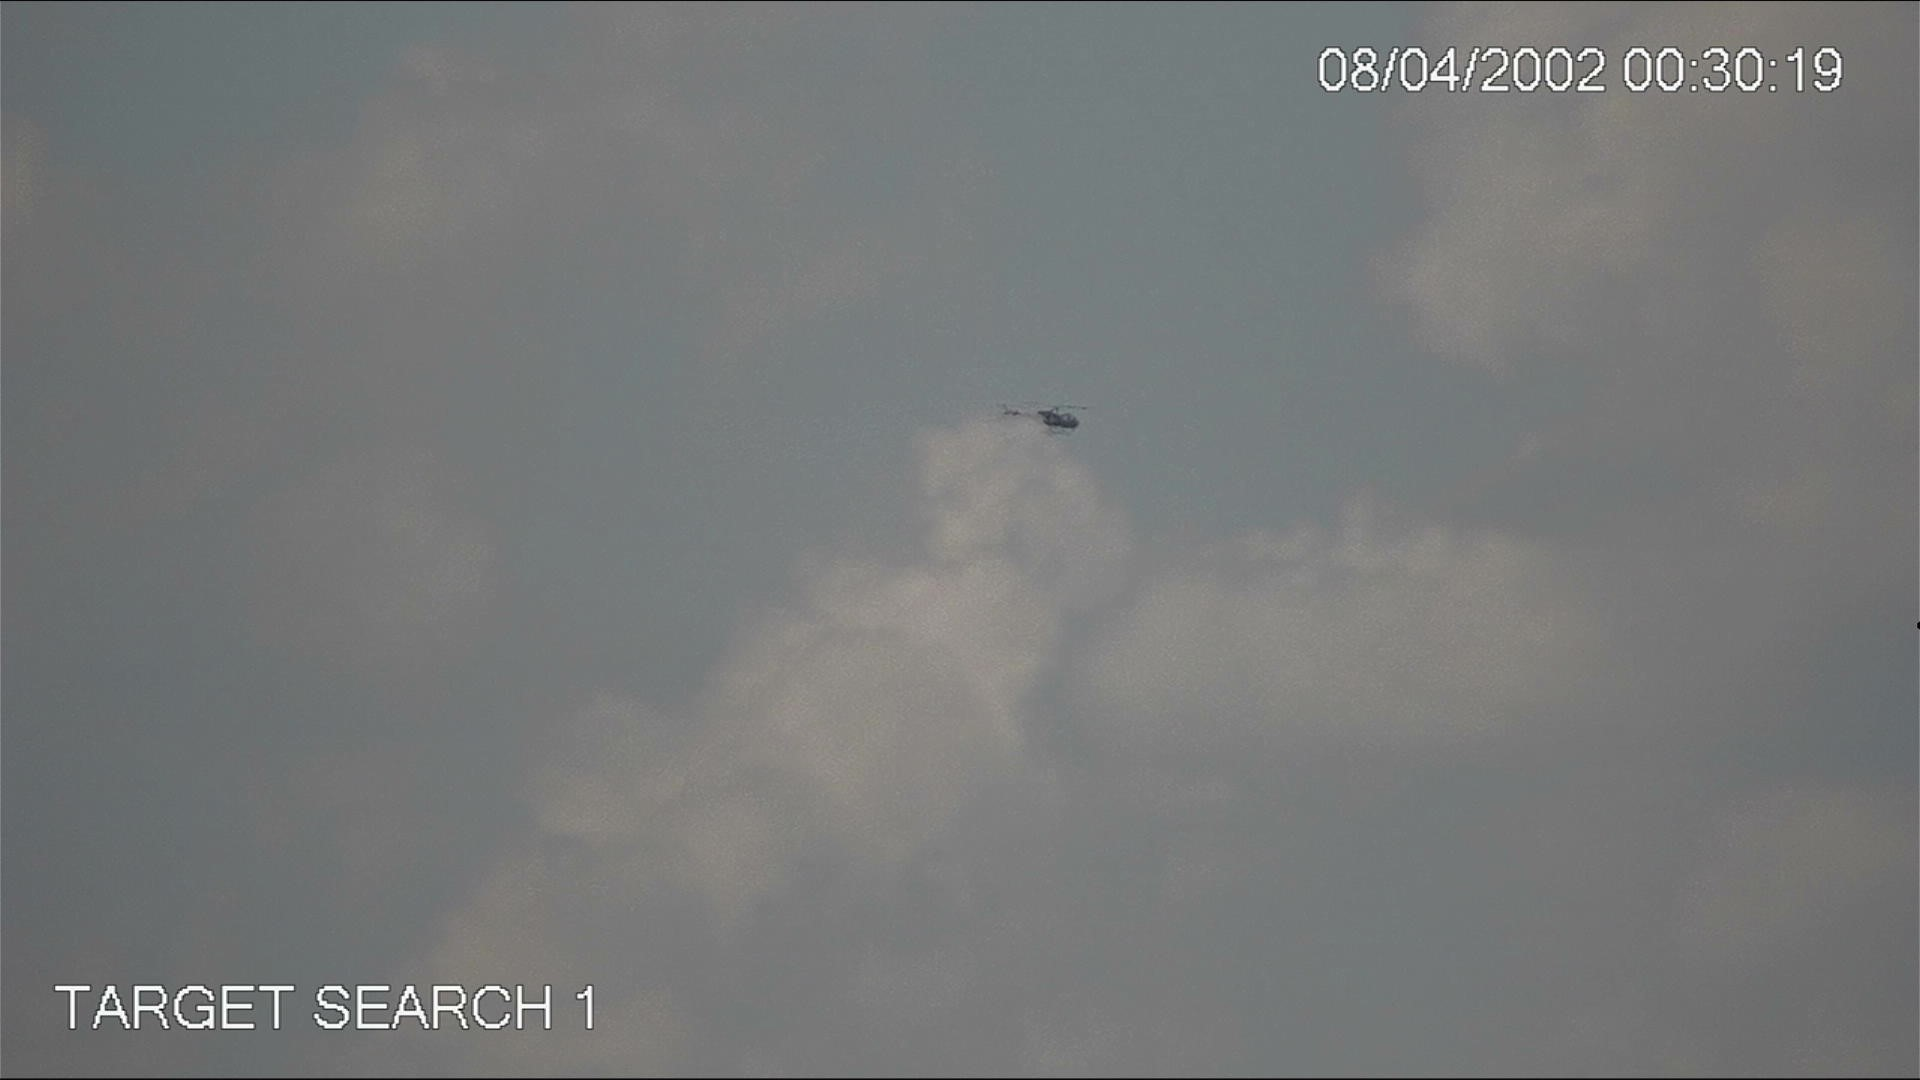SU_30: (996, 393, 1091, 440)
